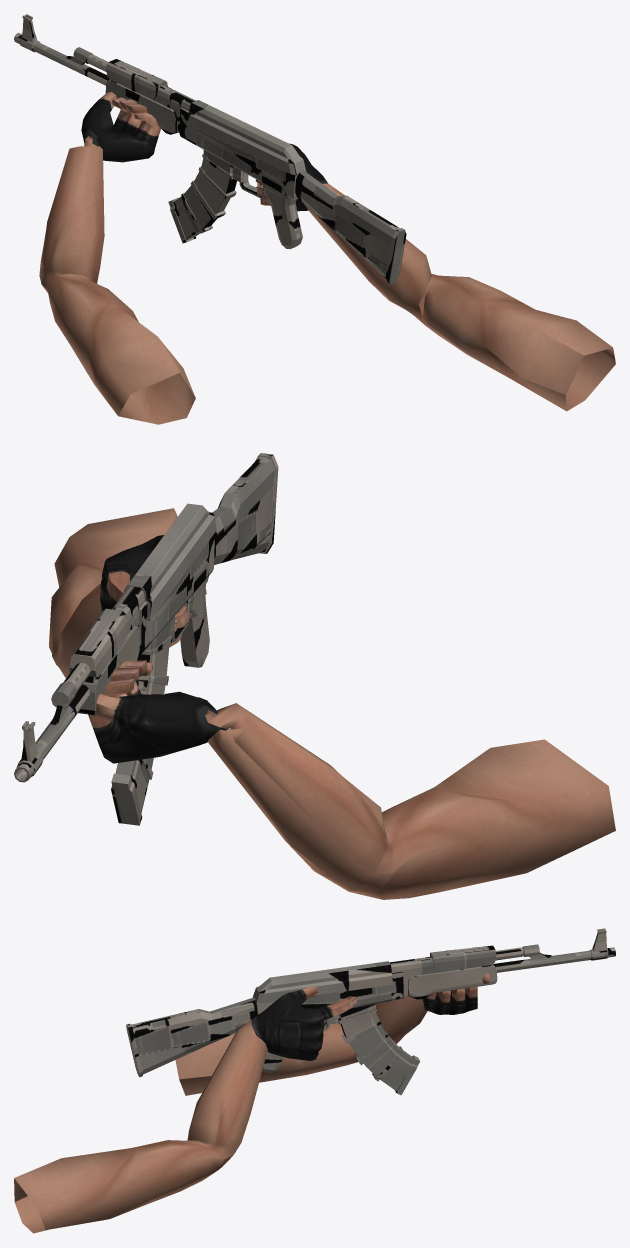
File: gun_ak.glb
3 renders of one model, top to bottom at view 1: azimuth 30°, elevation 25°; view 2: azimuth 150°, elevation 25°; view 3: azimuth 270°, elevation 25°, orthographic. The views are drawn at different scales.
Parts seen in each view (by area): view 1: body_ARMS, body_QUATP, body_QUAT, mag_QUATP; view 2: body_ARMS, body_QUATP, body_QUAT, mag_QUATP; view 3: body_ARMS, body_QUATP, body_QUAT, mag_QUATP.
Part boxes in pixels (x1,y1,x2,y2): body_ARMS: (39, 92, 615, 424); body_QUATP: (14, 15, 406, 283); body_QUAT: (14, 14, 306, 200); mag_QUATP: (168, 150, 236, 243); body_ARMS: (49, 508, 615, 899); body_QUATP: (14, 453, 278, 782); body_QUAT: (14, 503, 216, 782); mag_QUATP: (111, 621, 171, 825); body_ARMS: (14, 973, 489, 1233); body_QUATP: (126, 929, 615, 1077); body_QUAT: (253, 928, 615, 1030); mag_QUATP: (338, 1004, 420, 1095).
Bounding box in the file's own units: 77.42 × 38.5 × 106.
Materials: 3 (3 with a texture image).
